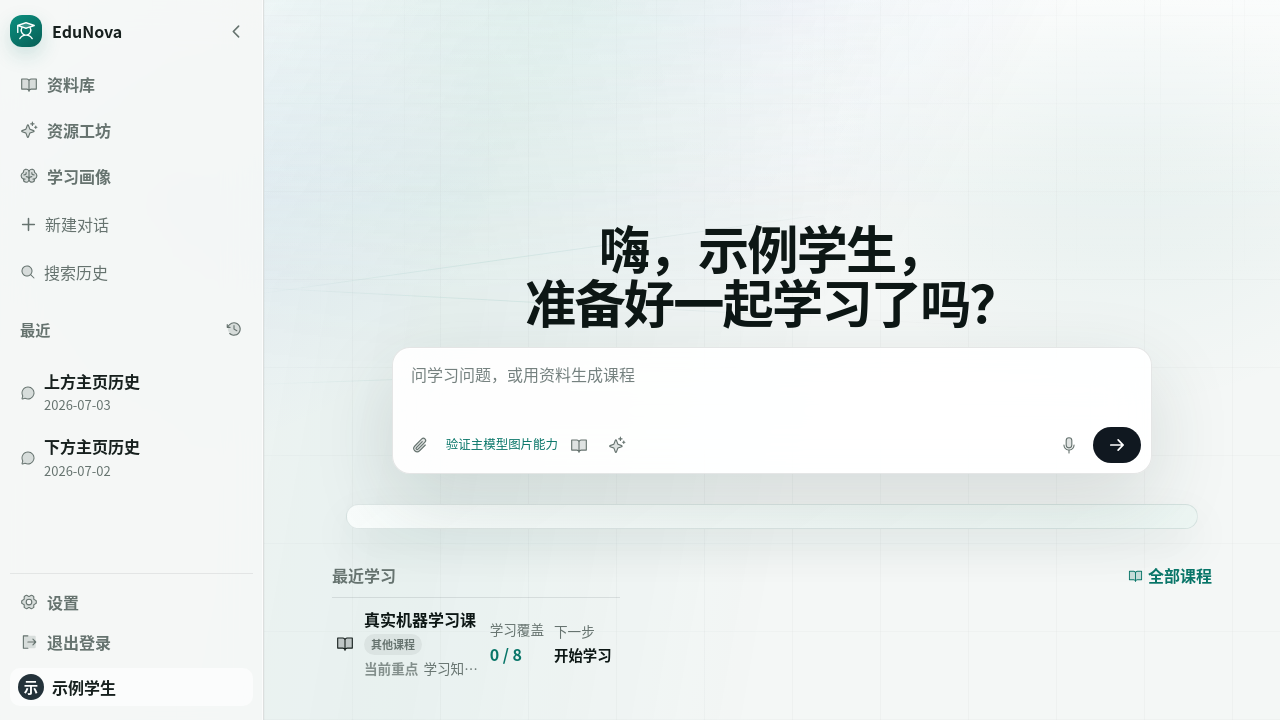
Scenario: LearningSpacePage › keeps an older home history item in place after selecting it
Click the button "下方主页历史 2026-07-02". click: (106, 458)
box: left=16, top=432, right=196, bottom=484
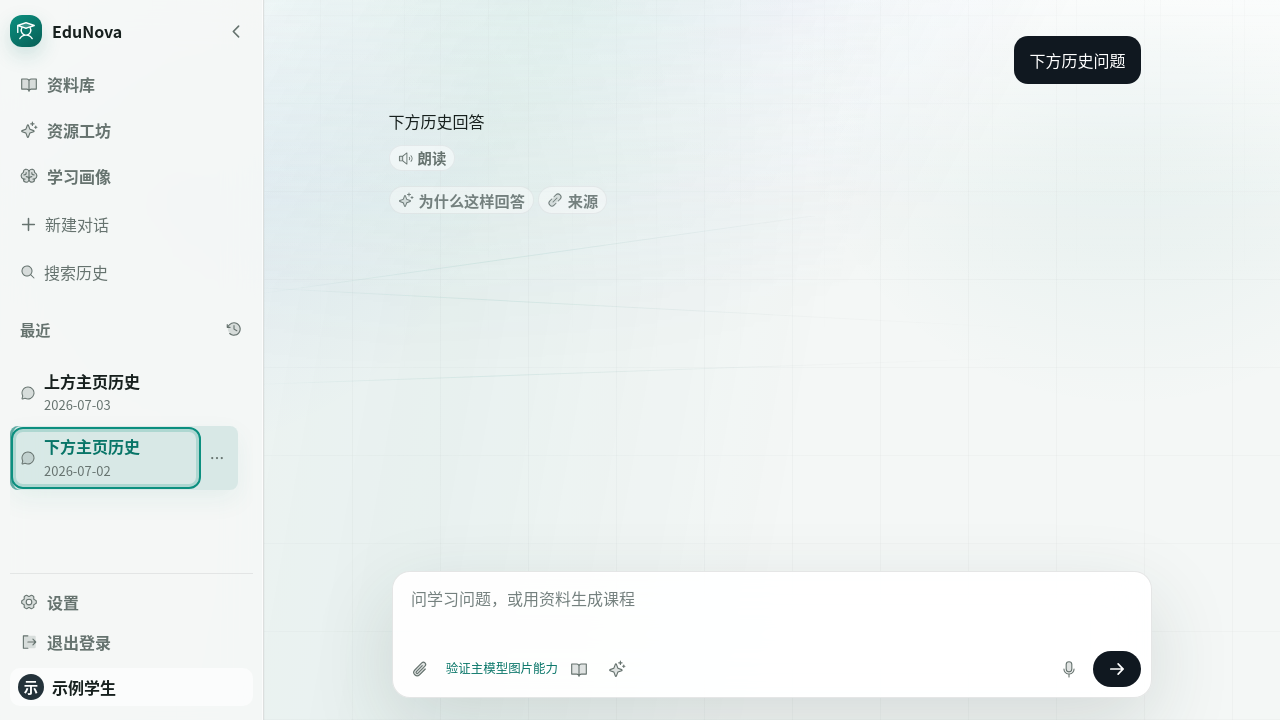
Check: the buttons "主页历史" read "上方主页历史2026-07-03", "下方主页历史2026-07-02", in this order, box left=16, top=367, right=196, bottom=418; left=16, top=432, right=196, bottom=484
Check: the text "下方历史问题" is shown, box left=1030, top=46, right=1126, bottom=74
